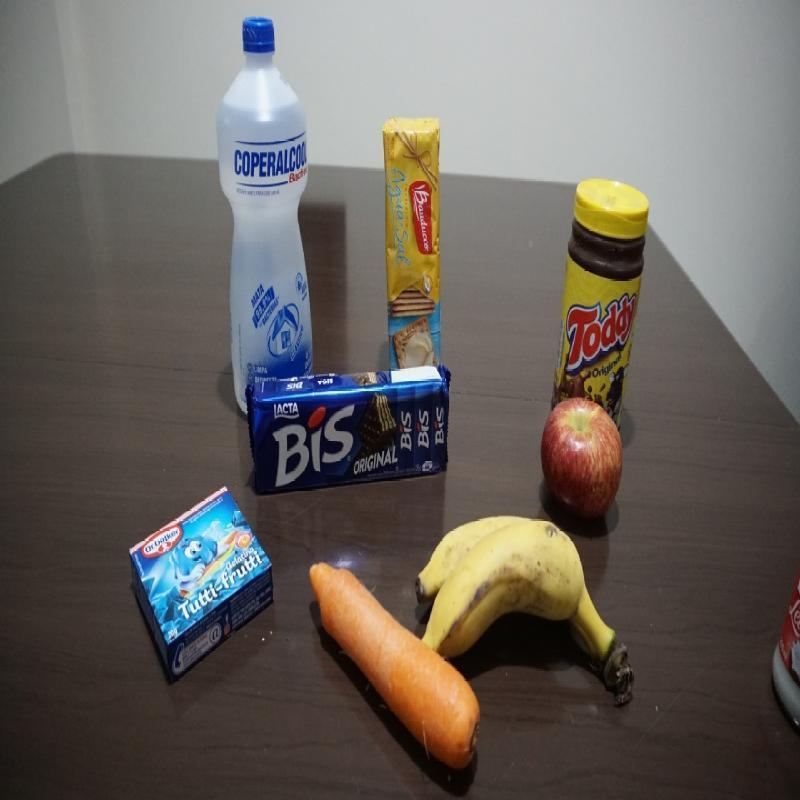Alcohol Bottle: (225, 18, 314, 362)
Apple: (541, 402, 628, 501)
Banana: (426, 505, 650, 727)
Carrot: (304, 546, 422, 754)
Chocolate Powder: (559, 180, 652, 388)
Cracker: (382, 125, 446, 358)
Gelatine: (126, 481, 276, 676)
